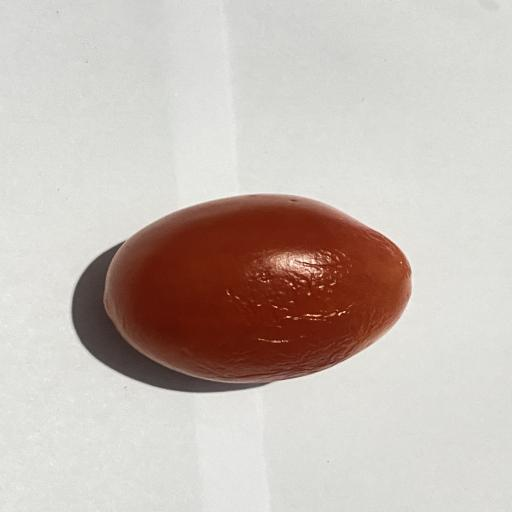spoiled: (104, 195, 411, 382)
